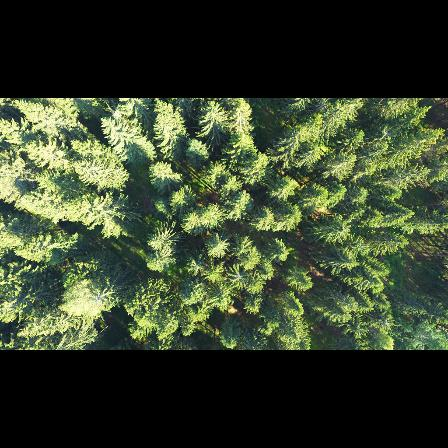Sick: (228, 266, 247, 288)
